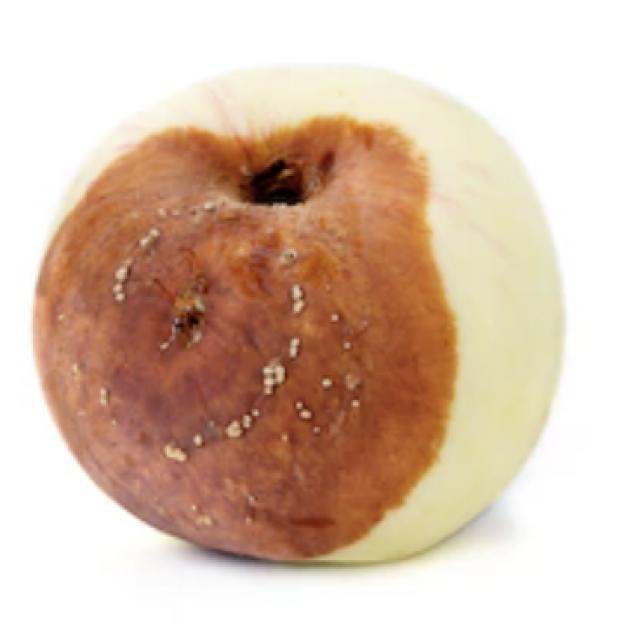Rotten: (61, 100, 556, 577)
